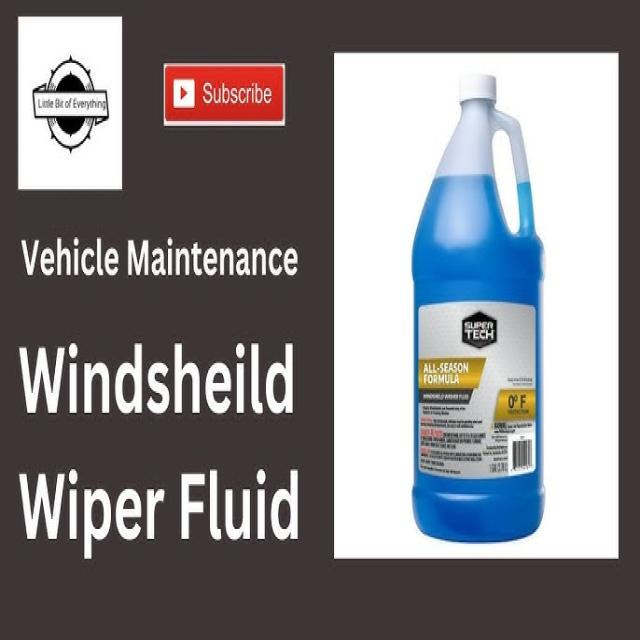winwinshield_washer: (410, 68, 548, 546)
